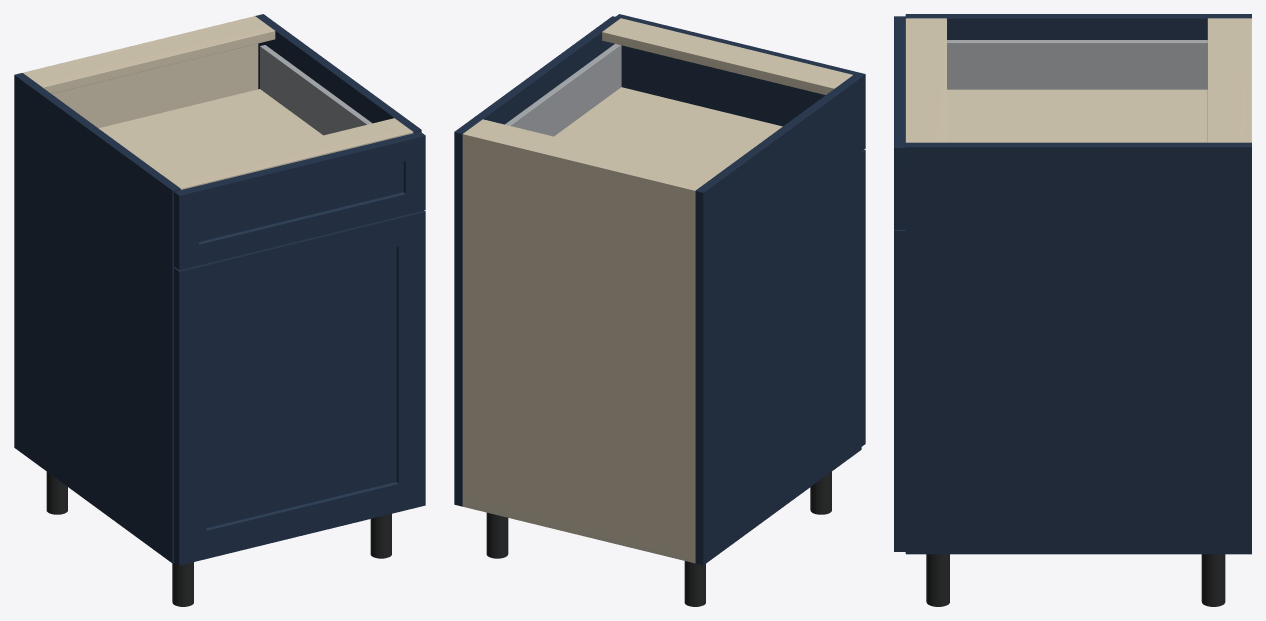
File: oppein-ply-bss-b21.glb
3 views of the same model, side by side, from view 1: azimuth 30°, elevation 25°; view 2: azimuth 150°, elevation 25°; view 3: azimuth 270°, elevation 25° (orthographic). The views are drawn at different scales.
Parts seen in each view (by area): view 1: Door, Cabinet side, Drawer front, Drawer floor, Cabinet back, Top support rail, Top support rail.001, Drawer side.001, Cabinet side.001, Adjustable foot.001, Adjustable foot.003, Adjustable foot; view 2: Cabinet back, Cabinet side, Drawer floor, Drawer front, Cabinet side.001, Top support rail.001, Drawer side.001, Top support rail, Cabinet bottom, Door, Adjustable foot.002, Adjustable foot (+1 smaller); view 3: Cabinet side.001, Drawer floor, Drawer side, Cabinet side, Top support rail.001, Top support rail, Door, Drawer front, Adjustable foot.002, Adjustable foot.003, Cabinet back.
Part boxes in pixels (<box>): Door: <box>174,210,425,565</box>; Cabinet side: <box>14,73,180,563</box>; Drawer front: <box>174,131,425,269</box>; Drawer floor: <box>99,89,322,174</box>; Cabinet back: <box>23,16,258,128</box>; Top support rail: <box>24,18,275,93</box>; Top support rail.001: <box>162,118,413,189</box>; Drawer side.001: <box>260,45,372,135</box>; Cabinet side.001: <box>255,14,421,133</box>; Adjustable foot.001: <box>172,562,193,606</box>; Adjustable foot.003: <box>370,514,391,558</box>; Adjustable foot: <box>46,472,67,514</box>; Cabinet back: <box>462,132,697,562</box>; Cabinet side: <box>695,75,861,565</box>; Drawer floor: <box>554,87,782,175</box>; Drawer front: <box>615,14,865,150</box>; Cabinet side.001: <box>454,16,620,506</box>; Top support rail.001: <box>602,18,852,94</box>; Drawer side.001: <box>505,44,621,136</box>; Top support rail: <box>466,119,714,188</box>; Cabinet bottom: <box>462,498,694,563</box>; Door: <box>861,150,865,446</box>; Adjustable foot.002: <box>486,512,508,558</box>; Adjustable foot: <box>684,561,705,606</box>; Cabinet side.001: <box>905,142,1251,554</box>; Drawer floor: <box>947,89,1207,142</box>; Drawer side: <box>947,40,1207,89</box>; Cabinet side: <box>905,14,1251,39</box>; Top support rail.001: <box>905,18,946,142</box>; Top support rail: <box>1207,18,1245,142</box>; Door: <box>894,229,905,551</box>; Drawer front: <box>894,16,905,229</box>; Adjustable foot.002: <box>1201,554,1225,606</box>; Adjustable foot.003: <box>926,554,949,606</box>; Cabinet back: <box>1245,18,1251,142</box>.
Size of the model in its own units: 0.5334 by 0.8763 by 0.6064.
